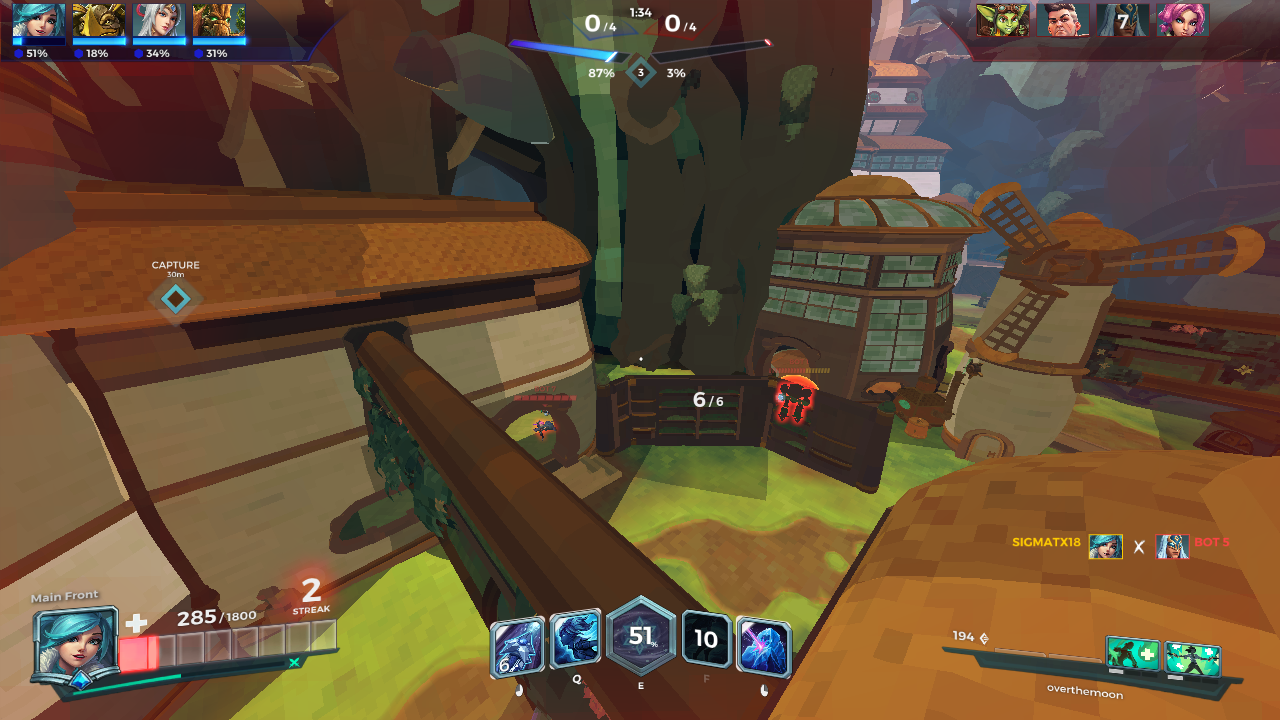model: (779, 378, 810, 426), (533, 415, 556, 441)
